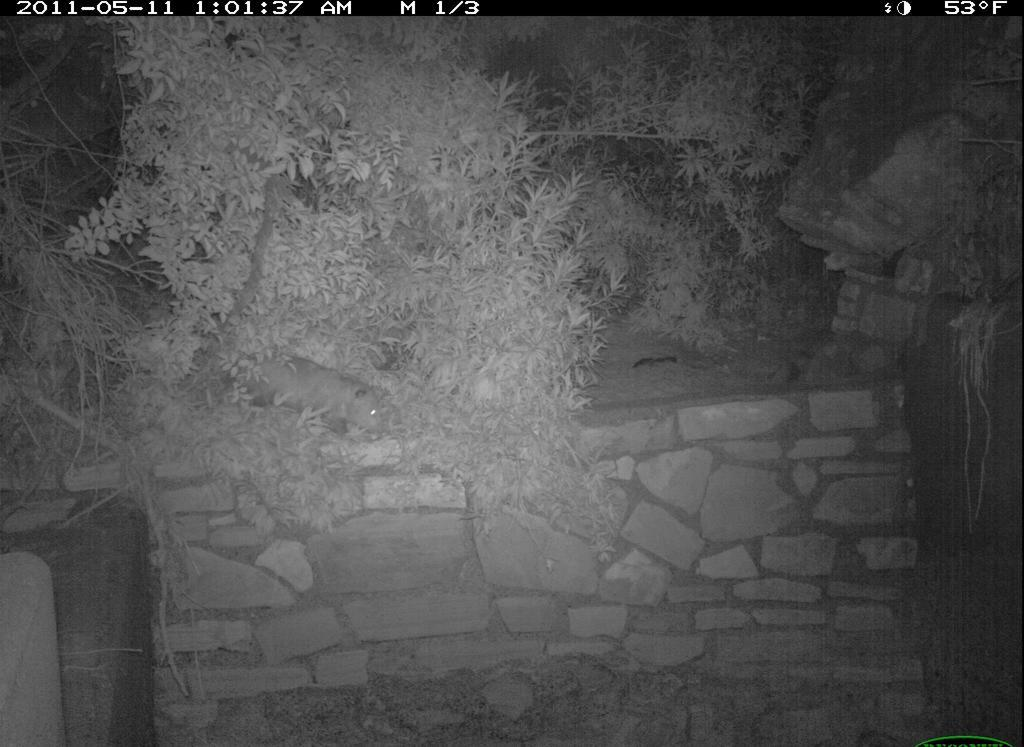opossum: (236, 342, 404, 447)
